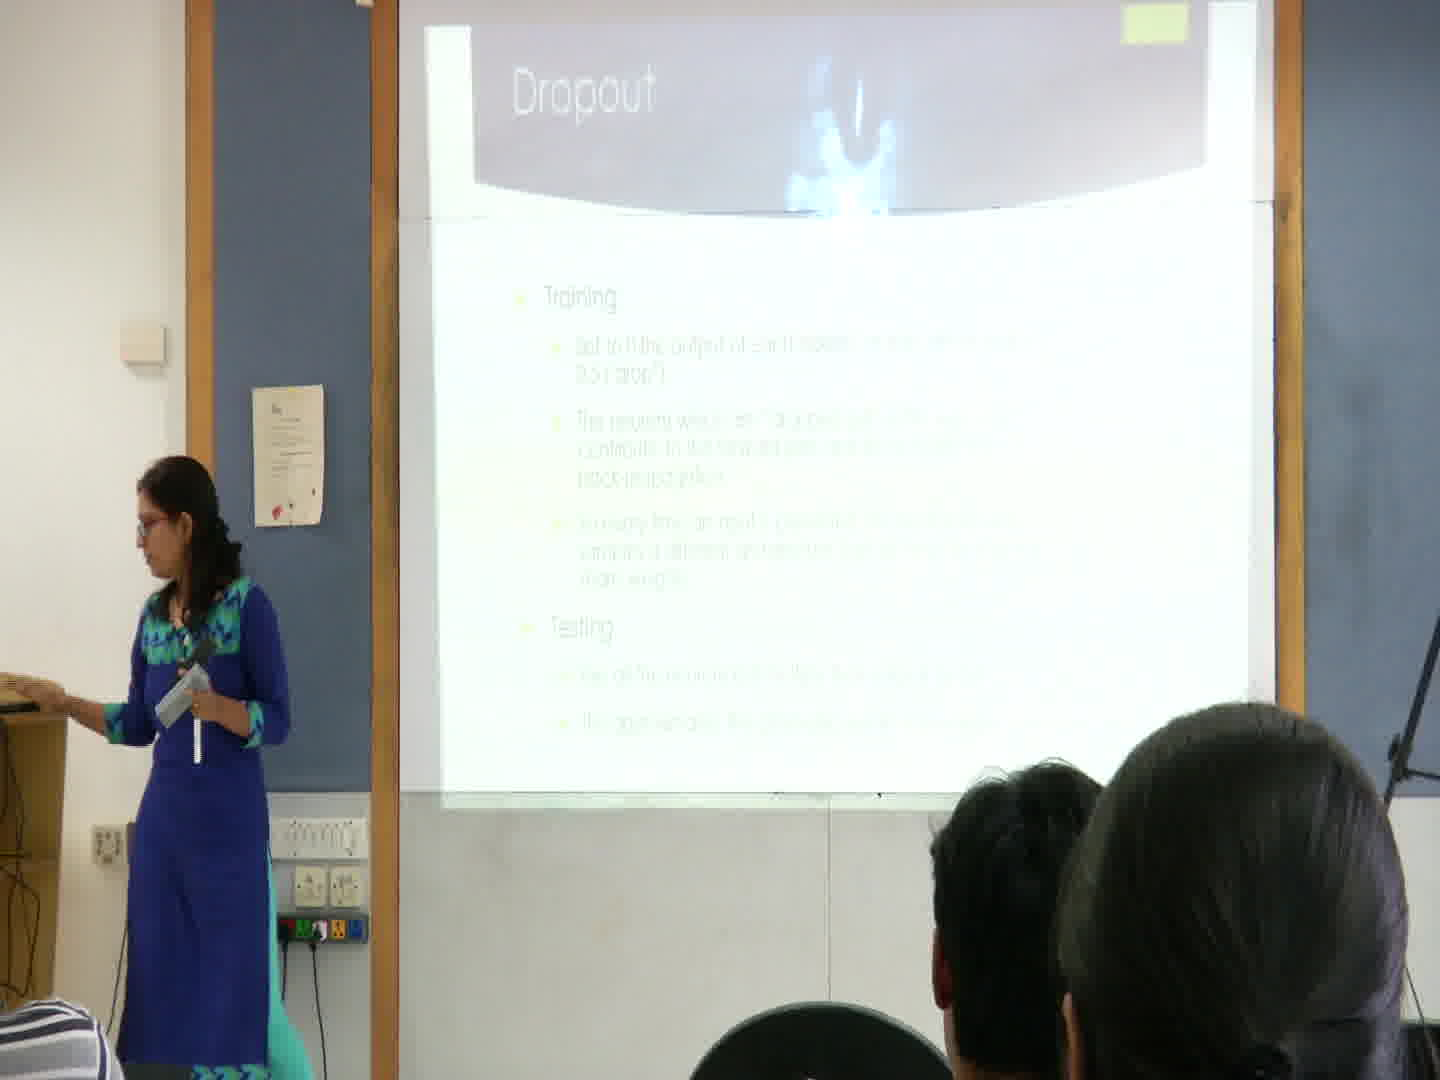slide: (426, 6, 1250, 808)
